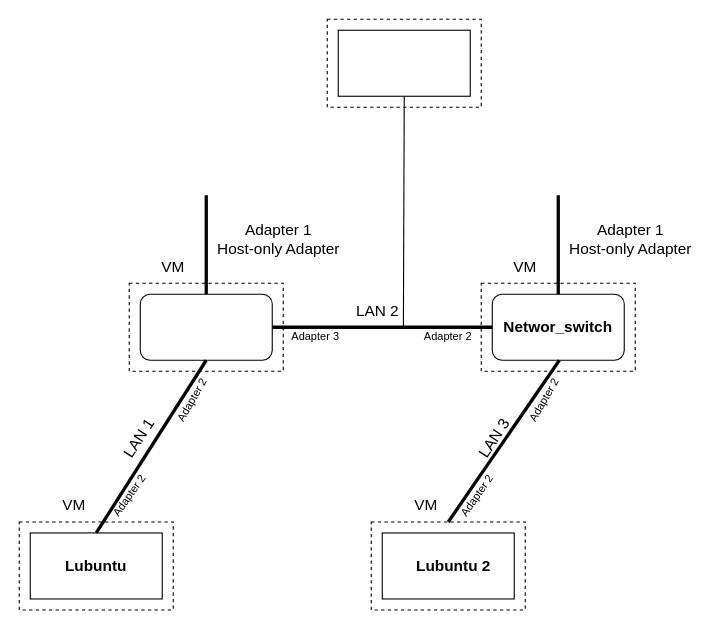
The diagram is 722 pixels wide and 629 high, and some of its shapes have lost their labels. Each missing label, with the centre of its shape:
"Switch" goes at point 205,326.
"Wireshark" goes at point 403,62.
